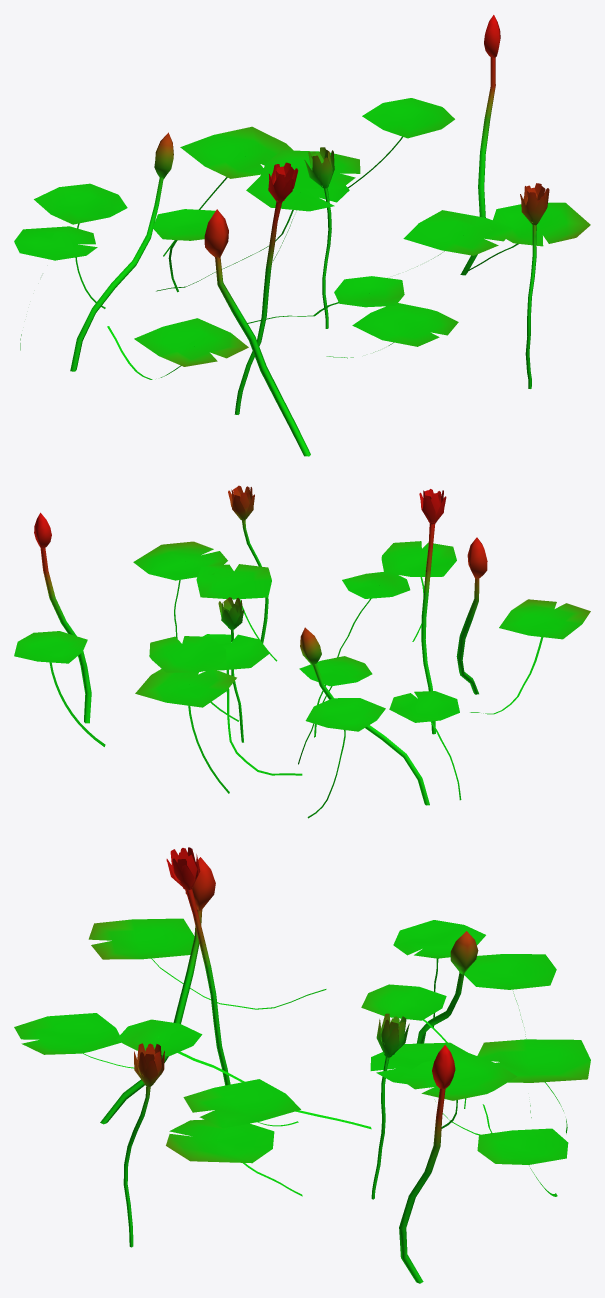
Rendered from Rembrandt Water Lily_LOD1_Var3_uc2kajgia.fbx.
3 renders of one model, top to bottom at view 1: azimuth 30°, elevation 25°; view 2: azimuth 150°, elevation 25°; view 3: azimuth 270°, elevation 25°, orthographic. The views are drawn at different scales.
Parts seen in each view (by area): view 1: merge1; view 2: merge1; view 3: merge1.
Part boxes in pixels (<box>): merge1: <box>14,15,590,456</box>; merge1: <box>14,485,590,818</box>; merge1: <box>14,847,590,1283</box>.
Bounding box in the file's own units: 139 × 70.39 × 132.
